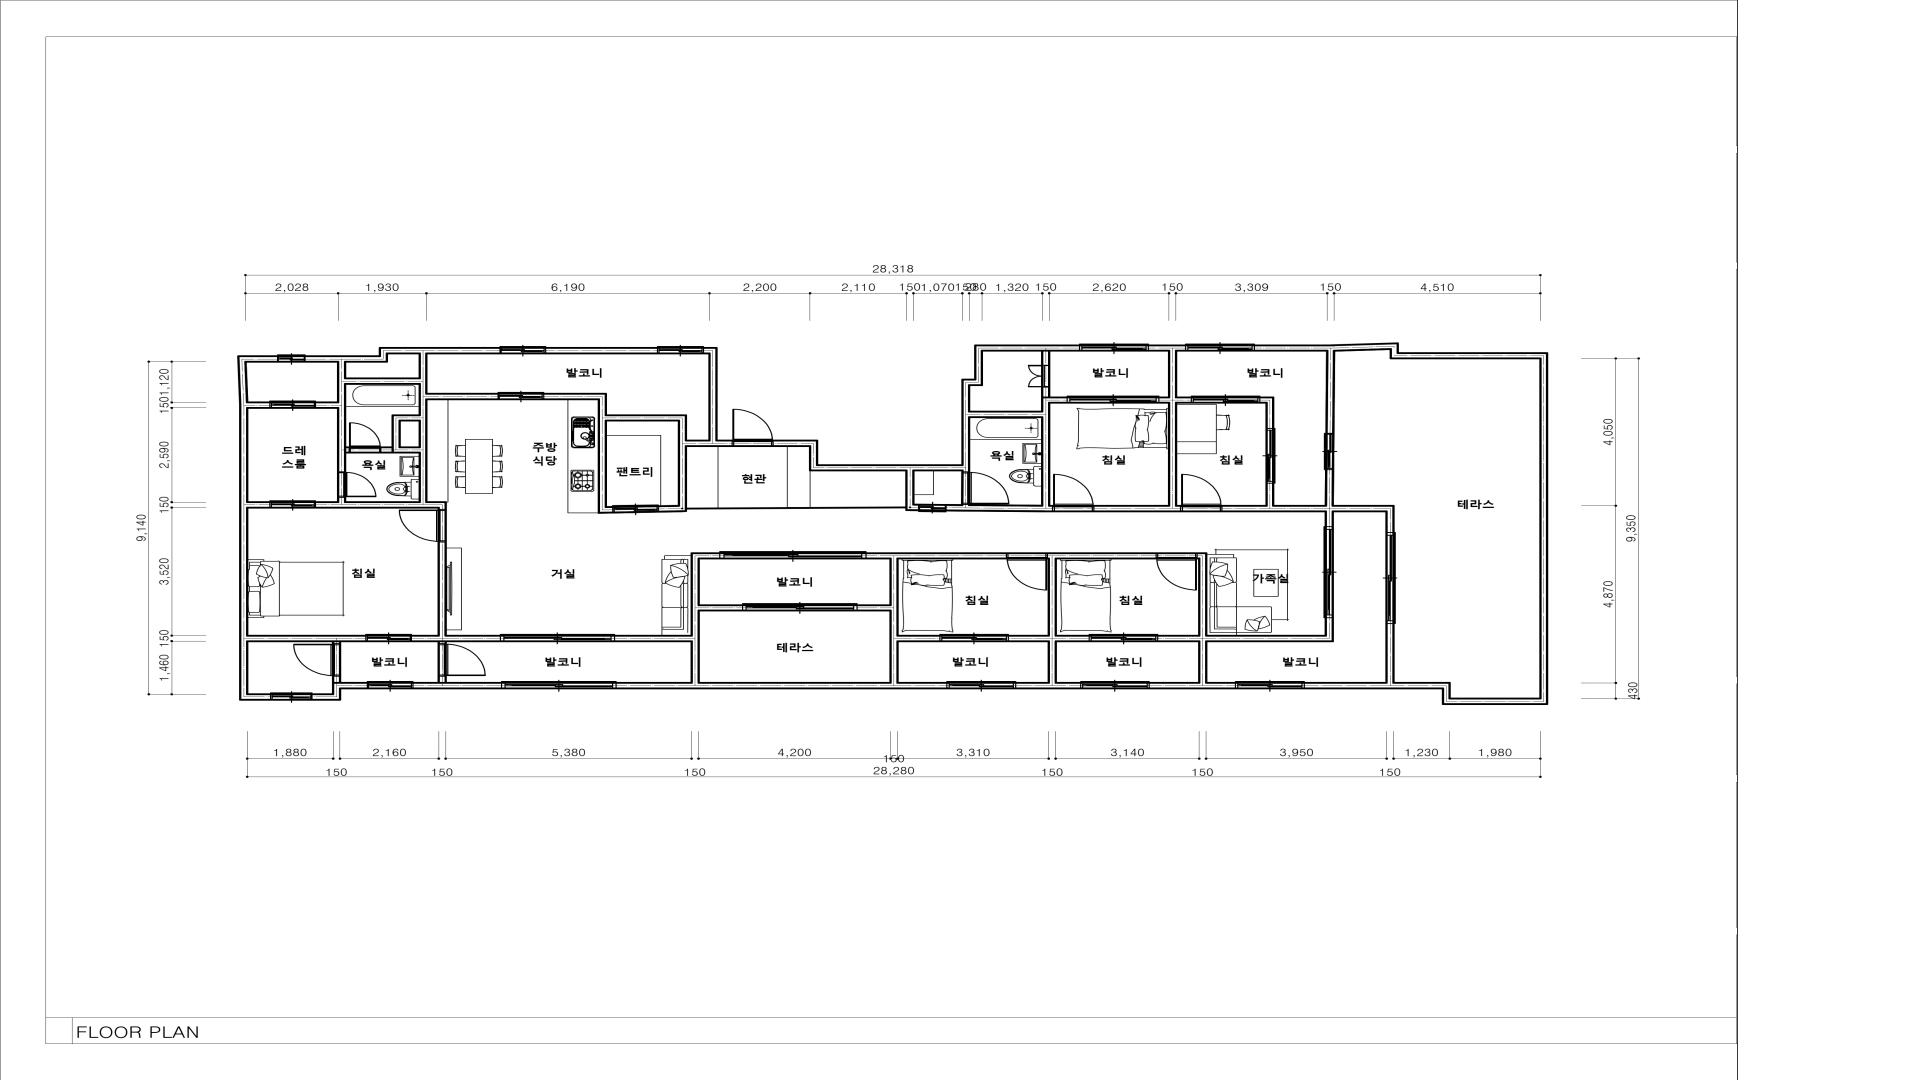background: (0, 0, 1920, 1080)
door: (1180, 473, 1222, 513), (1052, 473, 1095, 512), (1006, 553, 1048, 591), (732, 409, 774, 447), (293, 644, 342, 676), (438, 644, 487, 676), (398, 509, 447, 542), (1156, 553, 1197, 591), (961, 472, 1010, 504), (338, 471, 377, 498), (348, 422, 381, 454), (269, 500, 316, 509), (612, 505, 659, 513), (918, 504, 947, 512)
wall: (237, 363, 248, 694), (616, 682, 947, 690), (1168, 352, 1178, 505), (1047, 553, 1058, 682), (1197, 553, 1208, 682), (418, 355, 427, 501), (889, 559, 899, 682), (1040, 397, 1051, 505), (691, 559, 700, 682), (819, 464, 961, 472), (597, 401, 608, 506), (316, 501, 447, 509), (338, 363, 347, 471), (248, 634, 365, 642), (1208, 634, 1325, 642), (866, 553, 1006, 559), (388, 347, 500, 355), (546, 347, 657, 355), (438, 542, 447, 634), (708, 355, 717, 447), (1325, 352, 1336, 433), (947, 504, 1052, 512), (1222, 505, 1325, 513), (961, 386, 971, 472), (678, 422, 687, 505), (984, 344, 1079, 352), (1304, 682, 1395, 690), (411, 634, 500, 642), (413, 682, 501, 690), (1095, 505, 1180, 513), (1150, 682, 1236, 690), (1058, 553, 1156, 559), (607, 414, 687, 422), (1255, 344, 1336, 352), (615, 634, 691, 642), (306, 355, 378, 363), (347, 377, 418, 385), (971, 410, 1040, 418), (1386, 624, 1395, 682), (1017, 682, 1080, 690), (545, 393, 607, 401), (427, 393, 497, 400), (1324, 469, 1335, 513), (1335, 505, 1386, 513), (392, 414, 401, 454), (774, 439, 819, 447), (905, 471, 915, 504), (700, 604, 742, 612), (1158, 634, 1199, 642), (975, 344, 984, 378), (899, 634, 939, 642), (237, 355, 277, 363), (1009, 634, 1047, 642), (1149, 344, 1185, 352), (857, 604, 890, 612), (1386, 505, 1395, 533), (808, 447, 819, 471), (1058, 634, 1089, 642), (658, 505, 687, 513), (1325, 618, 1335, 642), (239, 694, 270, 700), (342, 682, 367, 690), (691, 553, 720, 559), (313, 694, 342, 700), (1266, 404, 1274, 427), (961, 378, 984, 386), (316, 401, 338, 409), (248, 401, 269, 409), (248, 501, 269, 509), (687, 439, 708, 447), (1266, 484, 1274, 505), (1324, 512, 1335, 526), (378, 347, 388, 363), (1040, 352, 1051, 365), (401, 414, 418, 422), (597, 506, 612, 514), (717, 439, 732, 447), (1050, 397, 1067, 404), (401, 447, 418, 454), (332, 682, 342, 694), (906, 504, 919, 512), (704, 347, 717, 355), (1261, 397, 1274, 404), (1178, 397, 1191, 404), (1040, 388, 1050, 397), (381, 446, 392, 454), (1159, 397, 1168, 404), (332, 676, 342, 682), (438, 676, 447, 682), (338, 497, 347, 501), (347, 447, 349, 454), (332, 642, 342, 644), (438, 642, 447, 644)
window: (720, 551, 866, 559), (501, 680, 616, 690), (742, 603, 857, 612), (1386, 531, 1396, 624), (1324, 526, 1335, 618), (500, 634, 616, 642), (1067, 396, 1159, 404), (1234, 680, 1305, 690), (947, 680, 1017, 690), (1080, 680, 1150, 690), (939, 634, 1009, 642), (1088, 634, 1158, 642), (1191, 396, 1261, 404), (1185, 344, 1255, 352), (1079, 344, 1149, 352), (1266, 427, 1275, 484), (657, 345, 704, 355), (367, 680, 413, 690), (500, 345, 546, 355), (1324, 433, 1335, 469), (269, 401, 316, 409), (497, 392, 545, 400), (365, 634, 411, 642), (270, 692, 313, 700), (277, 355, 306, 363)
